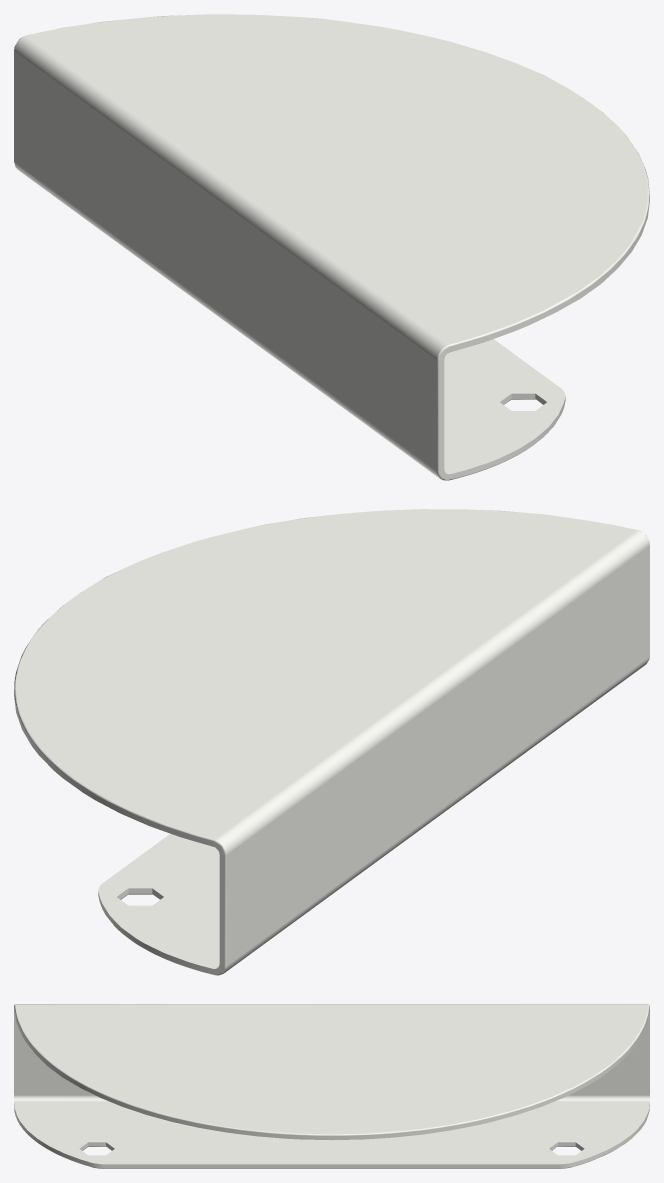
File: begripa_uchwyt_70540081.glb
3 renders of one model, top to bottom at view 1: azimuth 30°, elevation 25°; view 2: azimuth 150°, elevation 25°; view 3: azimuth 270°, elevation 25°, orthographic. The views are drawn at different scales.
Visible parts, largest first — view 1: begripa_uchwyt_70540081; view 2: begripa_uchwyt_70540081; view 3: begripa_uchwyt_70540081.
Part boxes in pixels (bbox=[...]): begripa_uchwyt_70540081: bbox=[14, 14, 649, 480]; begripa_uchwyt_70540081: bbox=[14, 509, 649, 975]; begripa_uchwyt_70540081: bbox=[14, 1004, 649, 1168].
Bounding box in the file's own units: 0.065 × 0.023 × 0.13.
1 material, 1 textured.
